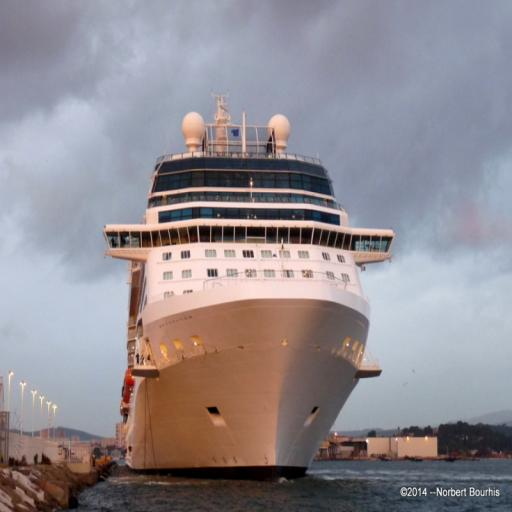cruises: (97, 70, 398, 483)
